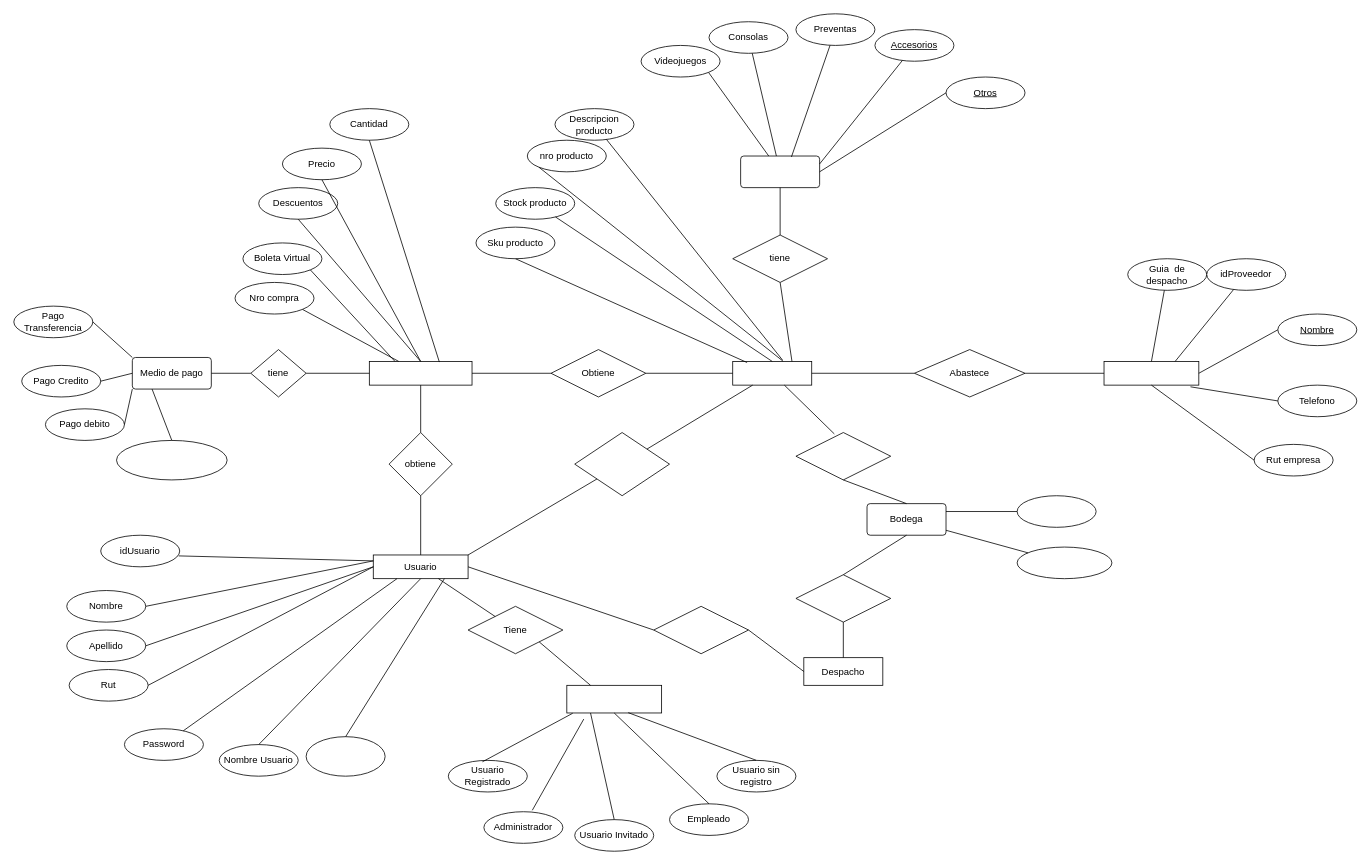
Some shapes in this 1371 by 865 pixel diagram are drawn without their labels. Each missing label, with the centre of its shape:
"Bodega Local" belongs at (x=1056, y=511).
"Bodega regiones" belongs at (x=1064, y=562).
"Consulta disponibilidad" belongs at (x=622, y=464).
"Consulta estado" belongs at (x=701, y=630).
"Detalle de venta producto" belongs at (x=420, y=373).
"Domicilio o Lugar despacho" belongs at (x=345, y=756).
"Pago electronico por un mediador ej paypal" belongs at (x=171, y=460).
"Productos" belongs at (x=772, y=373).
"Proveedor" belongs at (x=1151, y=373).
"Realizan" belongs at (x=843, y=598).
"Se almacenan" belongs at (x=843, y=456).
"Tipo de producto" belongs at (x=780, y=171).
"Tipo usuario" belongs at (x=614, y=699).
